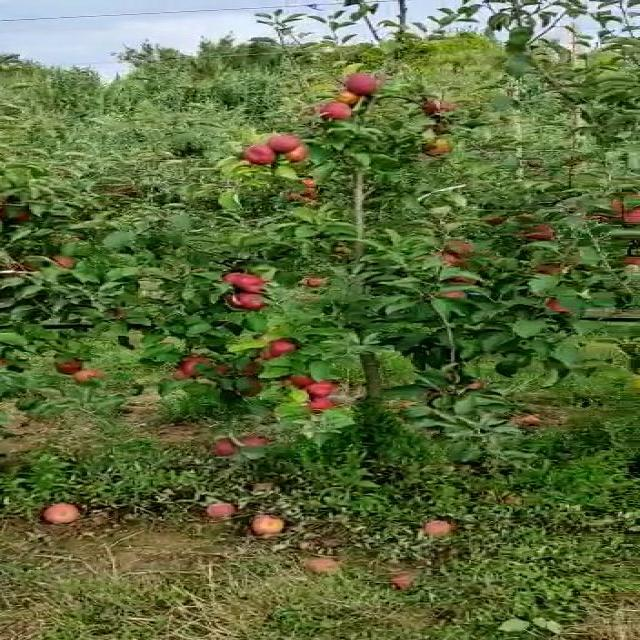100-_ripeness: (216, 272, 262, 293), (260, 340, 304, 360), (304, 389, 338, 414), (240, 142, 278, 164), (612, 206, 640, 234), (218, 291, 264, 308), (346, 70, 378, 94), (316, 103, 360, 120), (184, 357, 218, 378), (300, 382, 340, 396), (269, 136, 295, 154), (555, 299, 580, 317), (75, 371, 100, 384)
